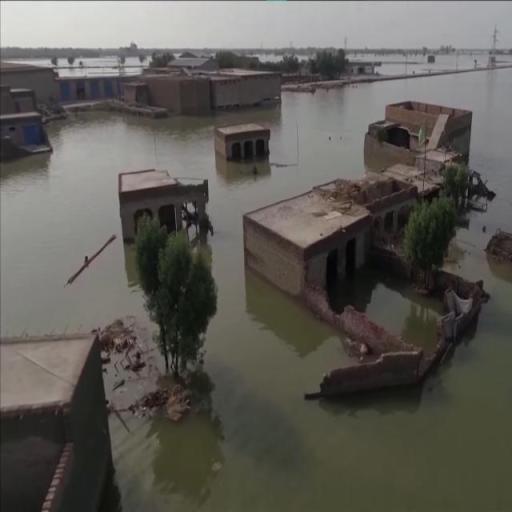flood: (1, 69, 512, 512), (327, 266, 445, 352), (406, 50, 490, 74), (346, 54, 407, 74), (56, 68, 142, 77), (73, 56, 119, 66), (2, 58, 51, 65), (124, 55, 151, 65), (258, 54, 283, 62), (498, 55, 512, 65), (57, 58, 69, 66), (296, 55, 313, 60)
house: (0, 323, 112, 512), (250, 178, 397, 300), (109, 160, 215, 228), (374, 94, 468, 166), (0, 58, 62, 107), (212, 66, 284, 108), (214, 118, 274, 160), (67, 74, 122, 103)
